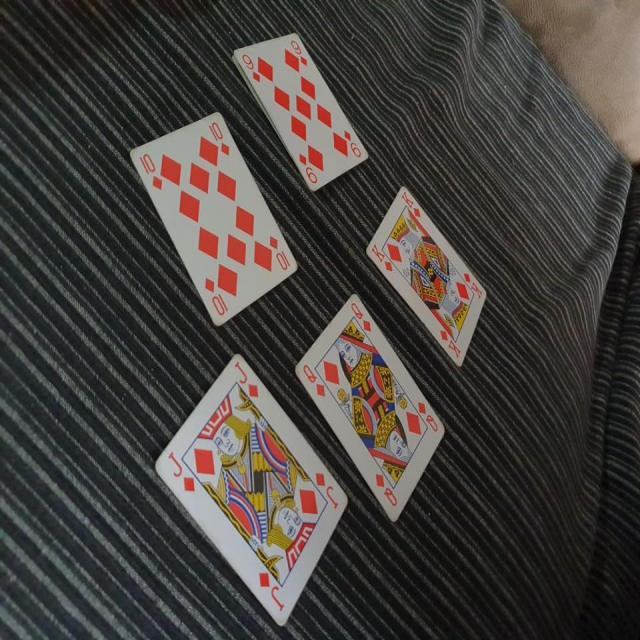10 Diamonds: (126, 106, 300, 324)
9 Diamonds: (232, 28, 368, 188)
J Diamonds: (152, 350, 348, 625)
K Diamonds: (364, 183, 488, 370)
Q Diamonds: (293, 290, 448, 524)
